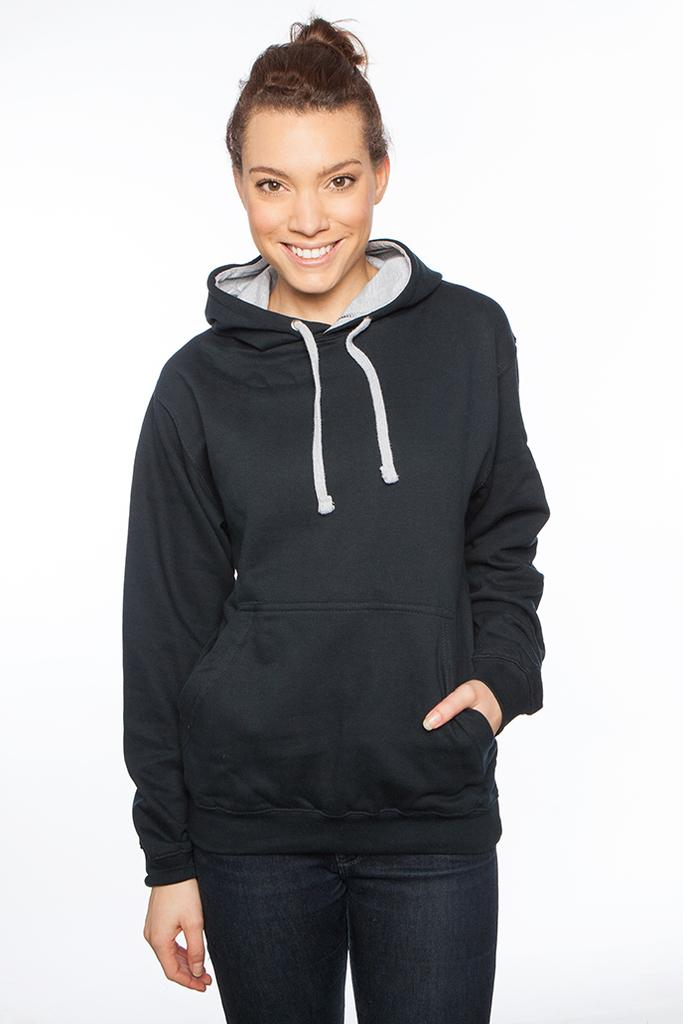no_helmet: (259, 26, 373, 130)
none: (248, 309, 437, 785)
